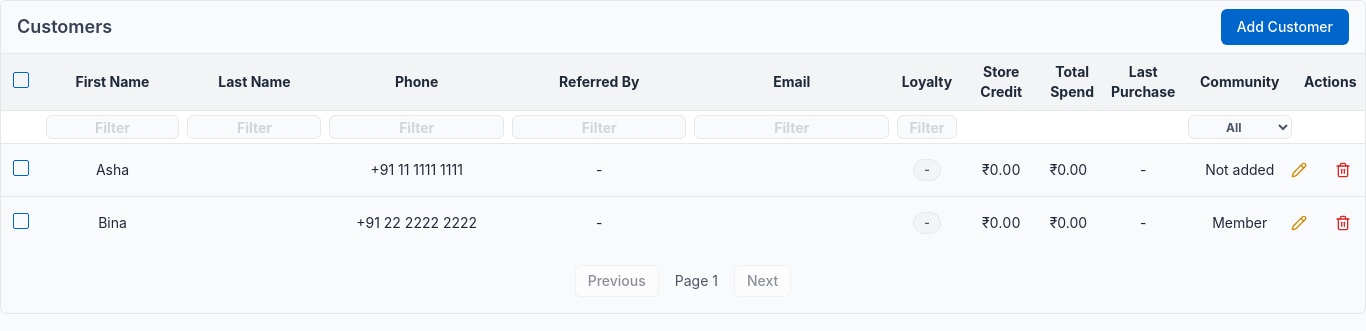
Test: select all on page then bulk-mark as member in one update
Expected: the text "Asha" is shown, [42,144,183,196]
Click the checkbox named "Select all on page".
click(21, 80)  # box [13,72,29,88]
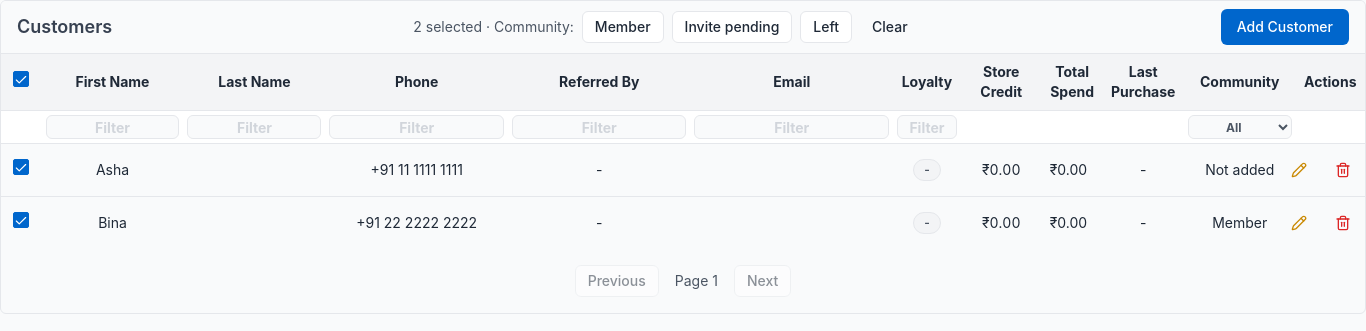
Expected: the text "2 selected · Community:" is shown, [413,17,574,37]
Click the button "Member".
click(623, 27)  # box [582,11,664,43]
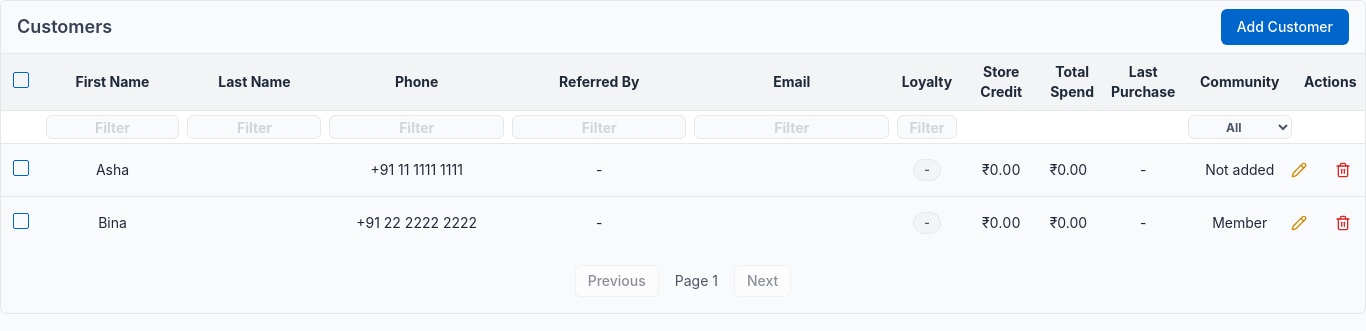
Expected: the text "selected" is gone
